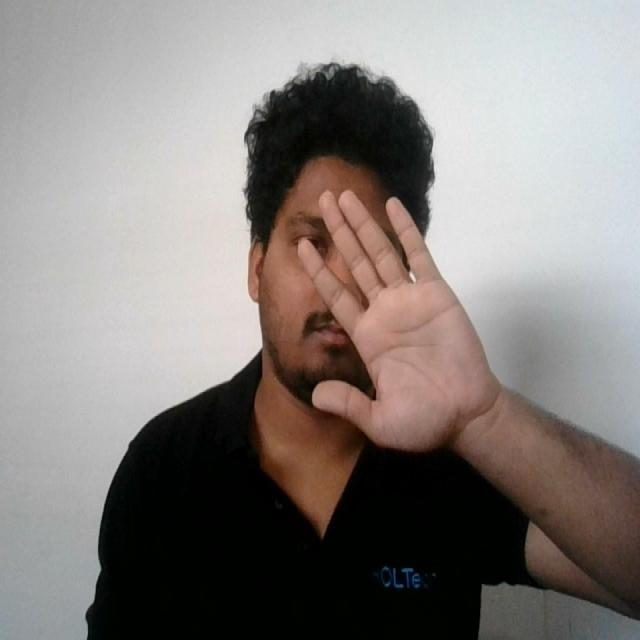Hello: (291, 183, 511, 464)
